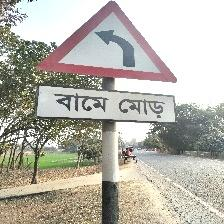Left-Turn: (31, 0, 178, 125)
